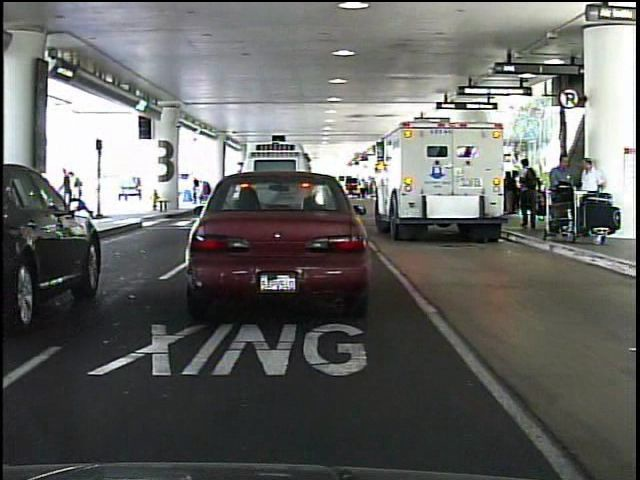person: (56, 168, 77, 225), (66, 167, 87, 222)
